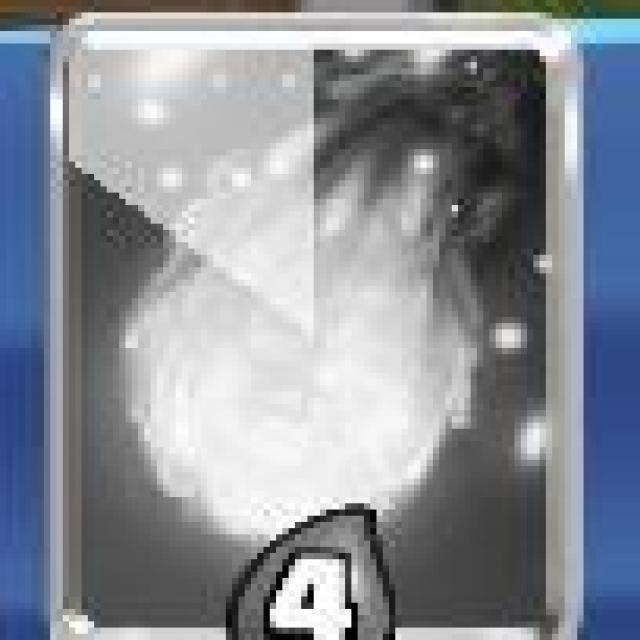Fireball: (60, 20, 575, 640)
